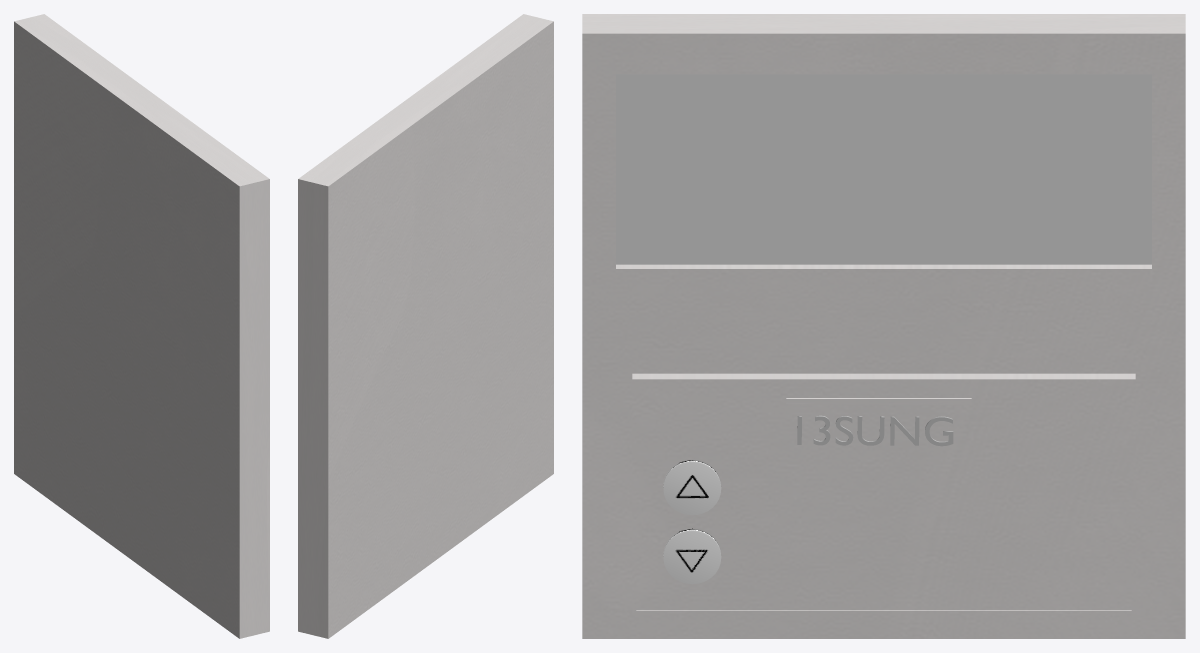
The model's file is 에어컨버튼.fbx.
3 views of the same model, side by side, from view 1: azimuth 30°, elevation 25°; view 2: azimuth 150°, elevation 25°; view 3: azimuth 270°, elevation 25° (orthographic). The views are drawn at different scales.
Visible parts, largest first — view 1: 에어컨조작기; view 2: 에어컨조작기; view 3: 에어컨조작기.
Boxes of the visible parts, x1,y1,x2,y2 form: 에어컨조작기: [14, 14, 269, 638]; 에어컨조작기: [298, 14, 553, 638]; 에어컨조작기: [582, 14, 1185, 638].
Size of the model in its own units: 3.45 by 34.97 by 31.58.
